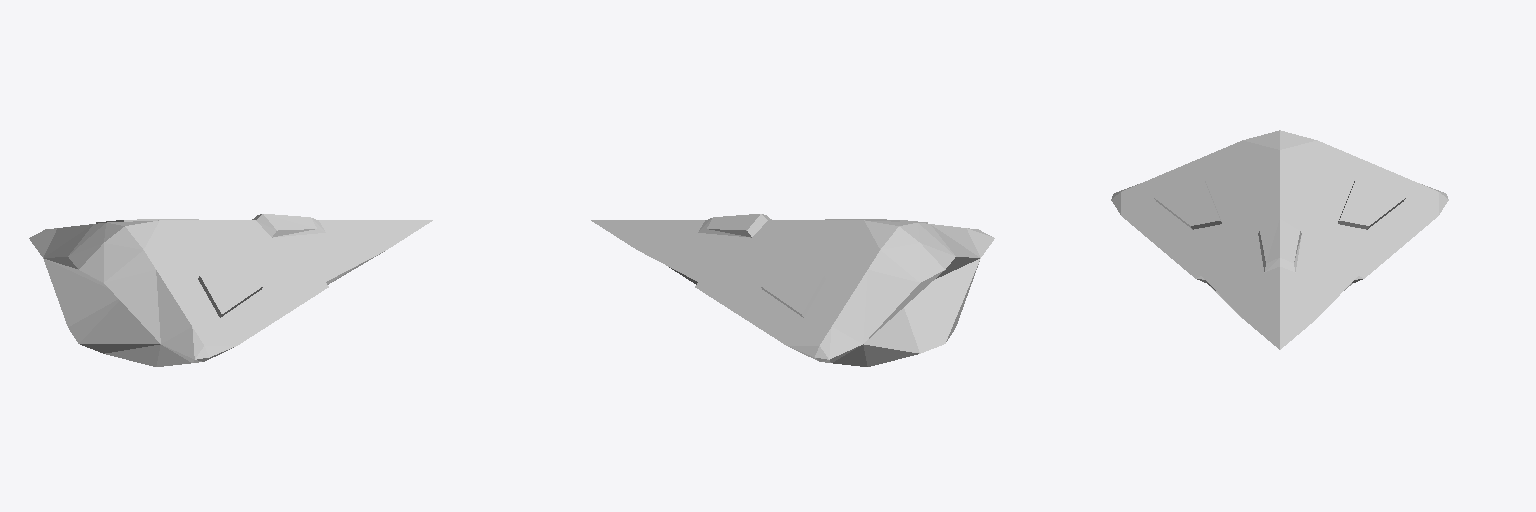
Rendered from xic_prospector_ma.obj.
The picture shows the model from 3 angles: view 1: azimuth 30°, elevation 25°; view 2: azimuth 150°, elevation 25°; view 3: azimuth 270°, elevation 25°; orthographic projection.
Parts seen in each view (by area): view 1: main_Cube.001; view 2: main_Cube.001; view 3: main_Cube.001.
Boxes of the visible parts, box(x1,y1,x2,y2) form: main_Cube.001: box(29, 214, 432, 366); main_Cube.001: box(591, 214, 994, 366); main_Cube.001: box(1111, 130, 1448, 349).
Size of the model in its own units: 2.43 by 0.81 by 2.01.